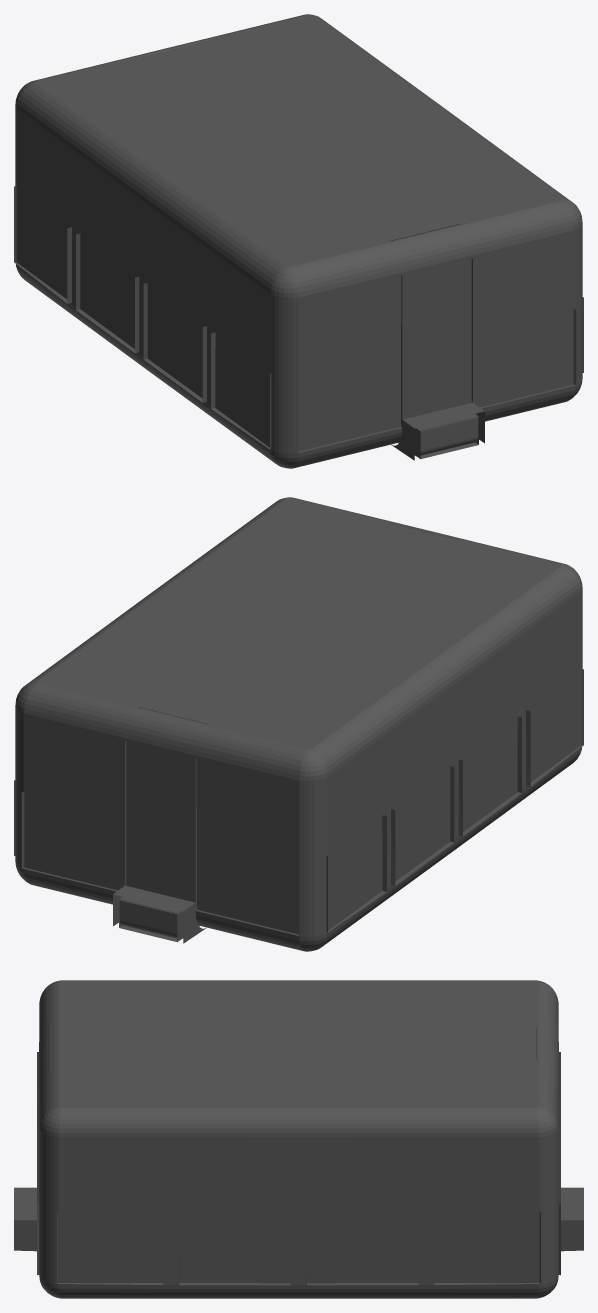
Rendered from Map_unified_TMP.fbx.
The picture shows the model from 3 angles, top to bottom: view 1: azimuth 30°, elevation 25°; view 2: azimuth 150°, elevation 25°; view 3: azimuth 270°, elevation 25°; orthographic projection. The views are drawn at different scales.
Parts seen in each view (by area): view 1: MapMesh; view 2: MapMesh; view 3: MapMesh.
Boxes of the visible parts, left/top/right/bottom form: MapMesh: left=14, top=14, right=583, bottom=468; MapMesh: left=14, top=497, right=583, bottom=951; MapMesh: left=14, top=980, right=583, bottom=1298.
Bounding box in the file's own units: 1461 × 890 × 2388.
1 material, 1 textured.
